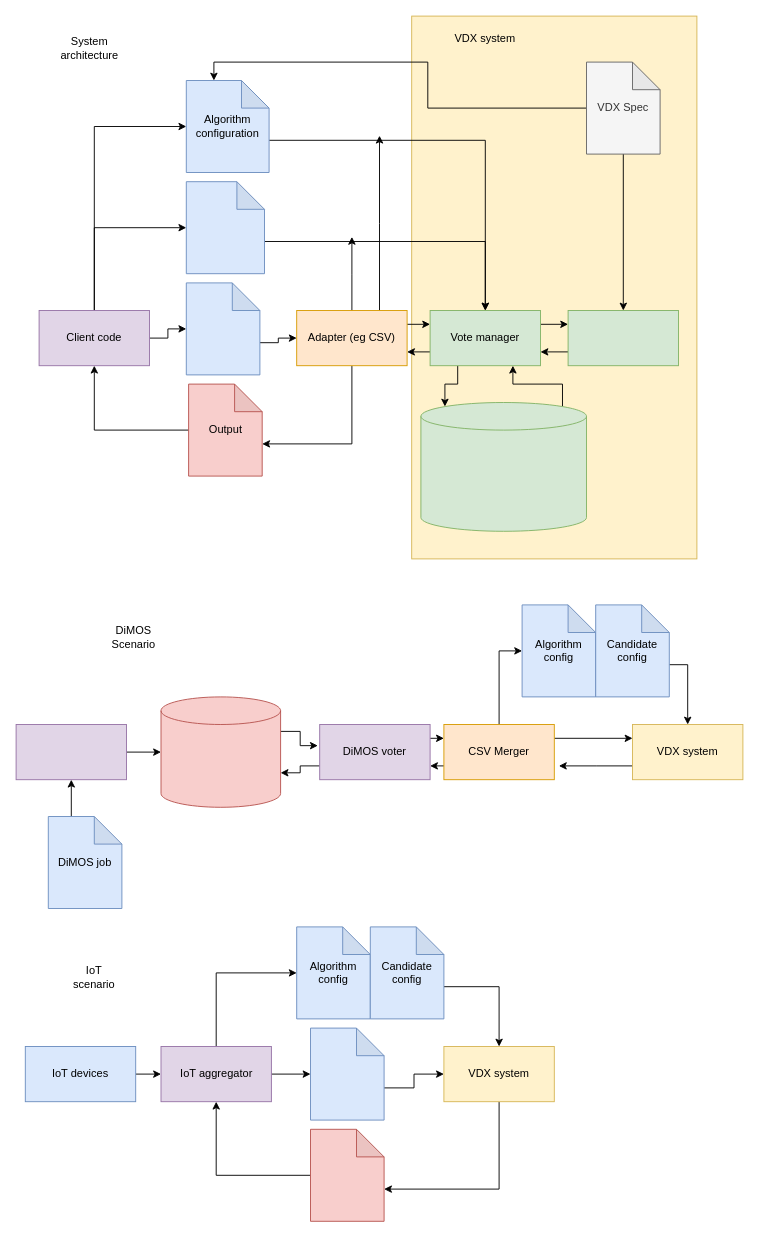
Some shapes in this 759 by 1237 pixel diagram are drawn without their labels. The shapes that lost their labels are listed below. From the top down, each one's centre as x and y in pixels, then its label:
At point (224, 227): "Candidate configuration".
At point (222, 328): "Candidate inputs".
At point (622, 338): "VDX Module".
At point (503, 466): "Algorithm definitions Candidate histories".
At point (70, 752): "DiMOS runner".
At point (220, 751): "Shared git: Node data Ground truth data".
At point (347, 1073): "Inputs".
At point (347, 1174): "Outputs".
